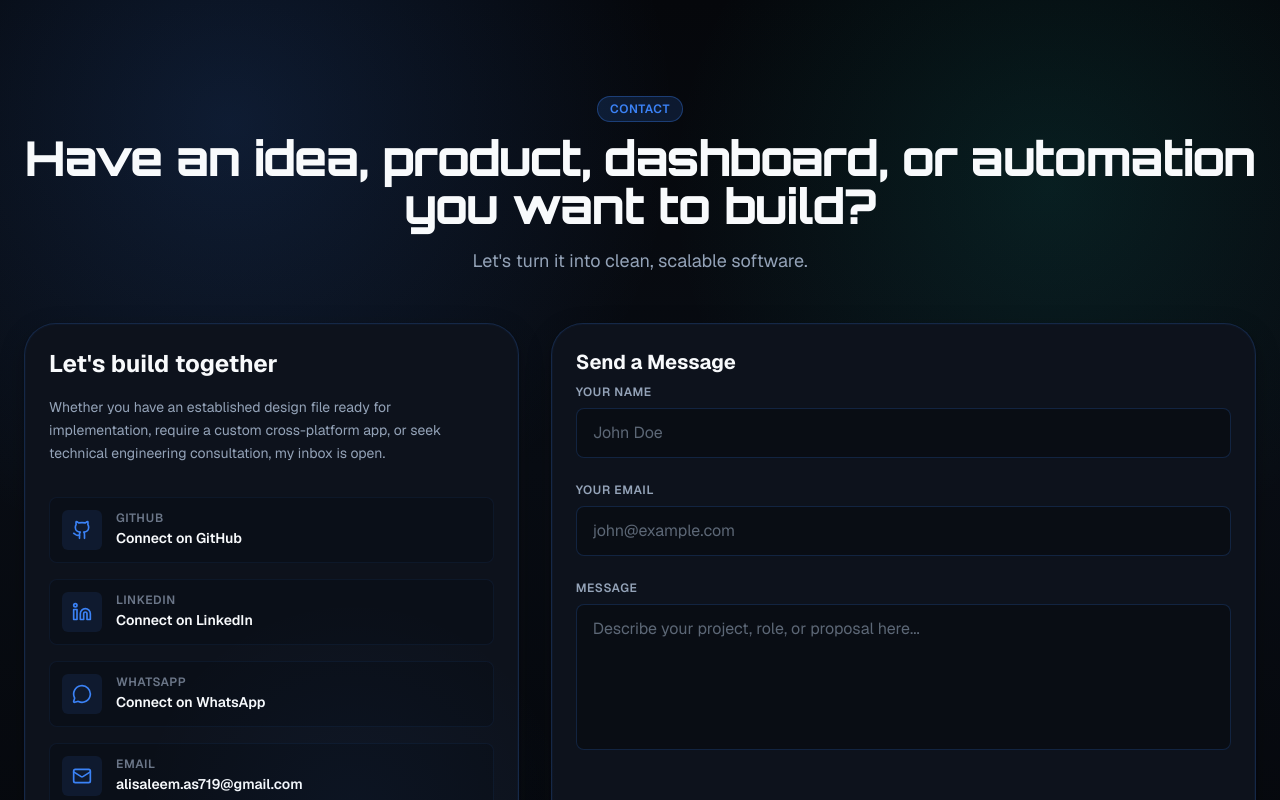
Test: Contact › shows success state, clears fields, and tracks success
The image size is (1280, 800).
Type "Jane Doe" into the field labelled "Your Name".
click(903, 433); type("Jane Doe")  # box [576,408,1231,458]
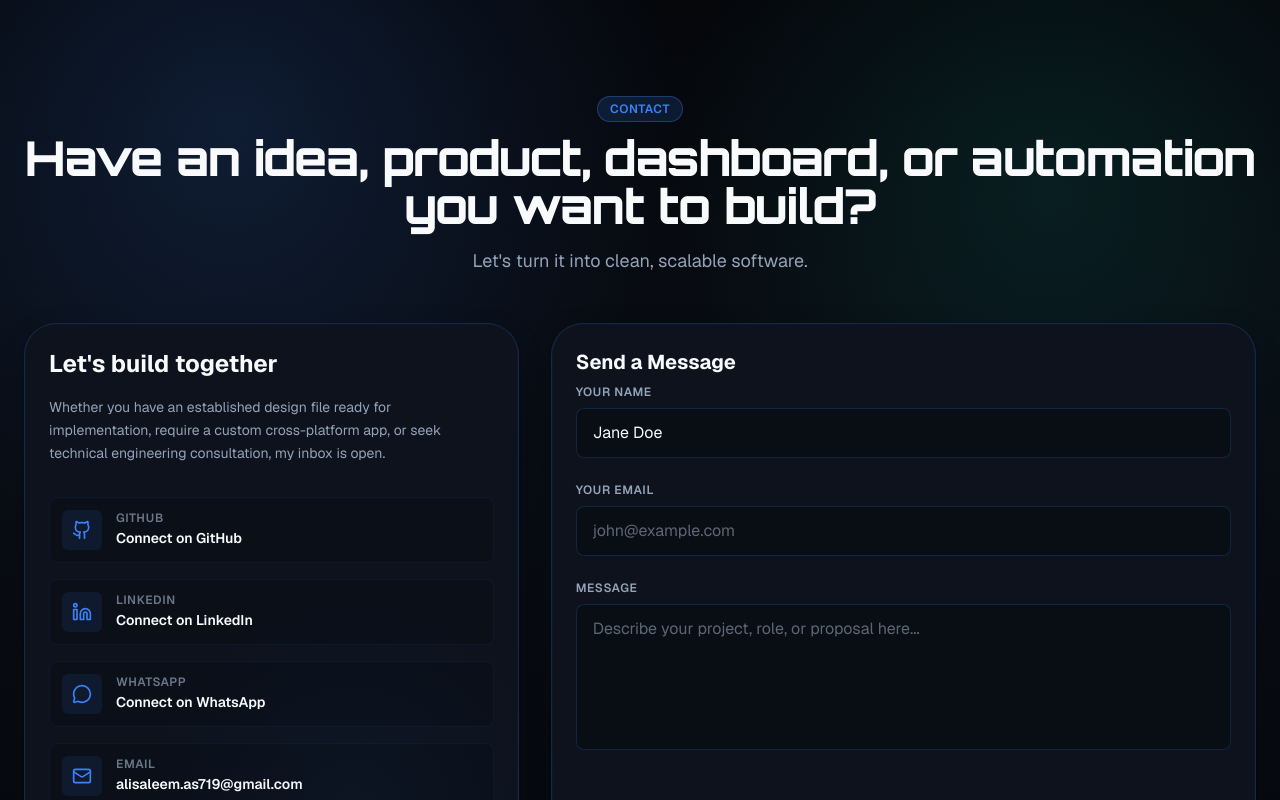
Type "jane@example.com" into the field labelled "Your Email".
click(903, 531); type("jane@example.com")  # box [576,506,1231,556]
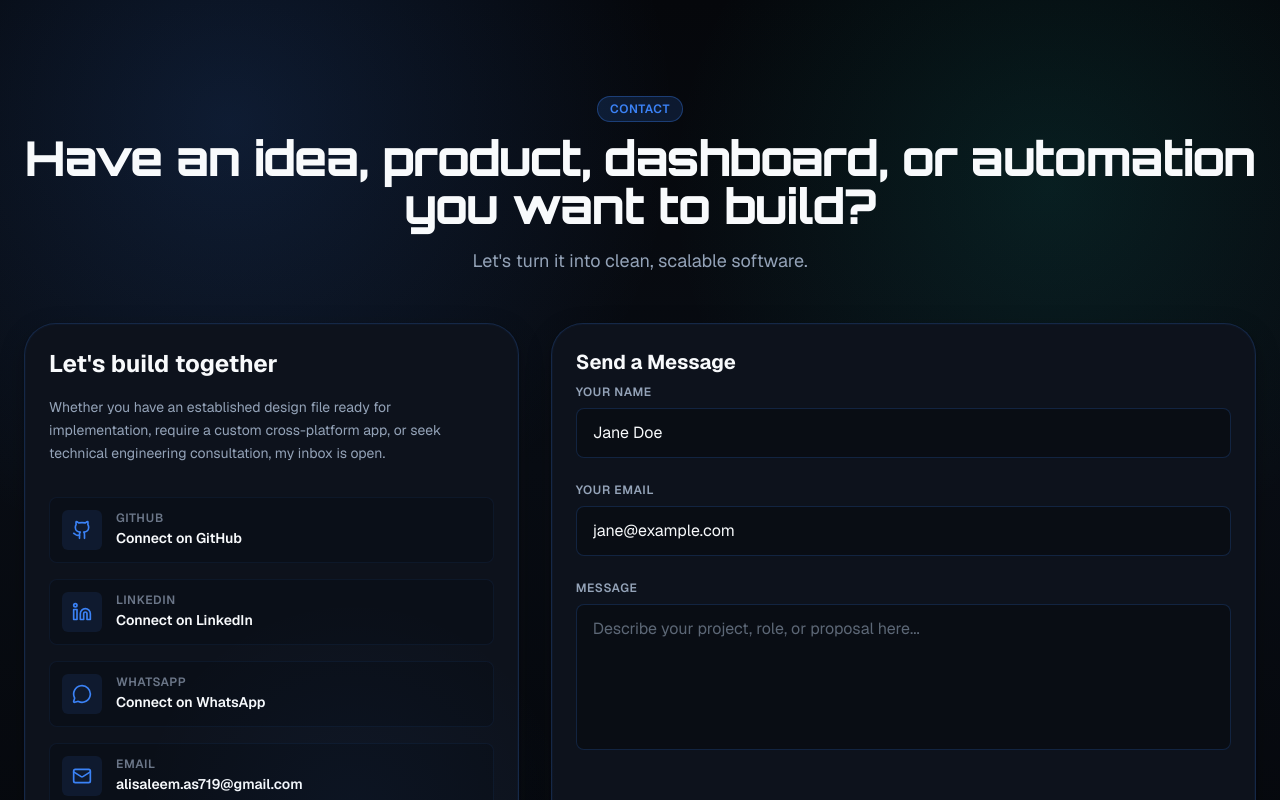
Type "Hello, let's build something." into the text box labelled "Message".
click(903, 677); type("Hello, let's build something.")  # box [576,604,1231,750]
(page scrolled)
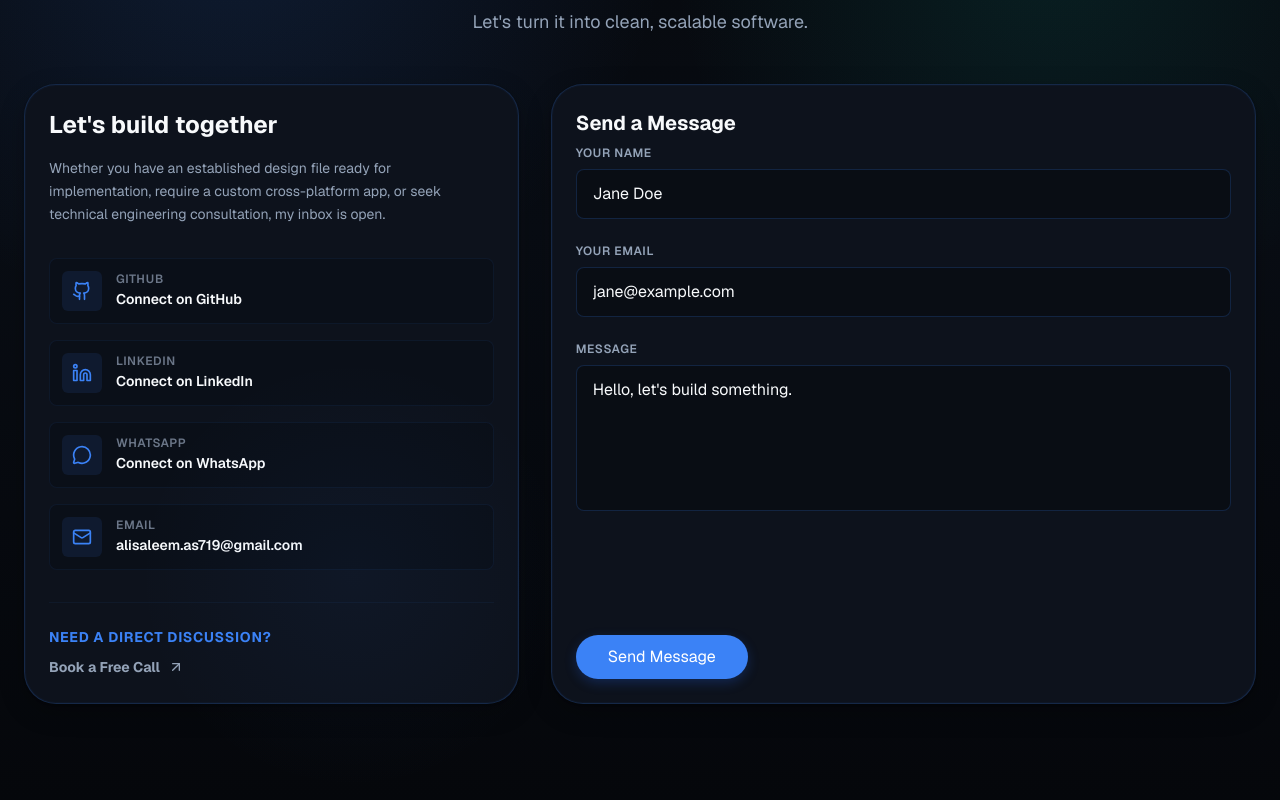
Click the button "Send Message".
click(662, 656)  # box [576,634,748,678]
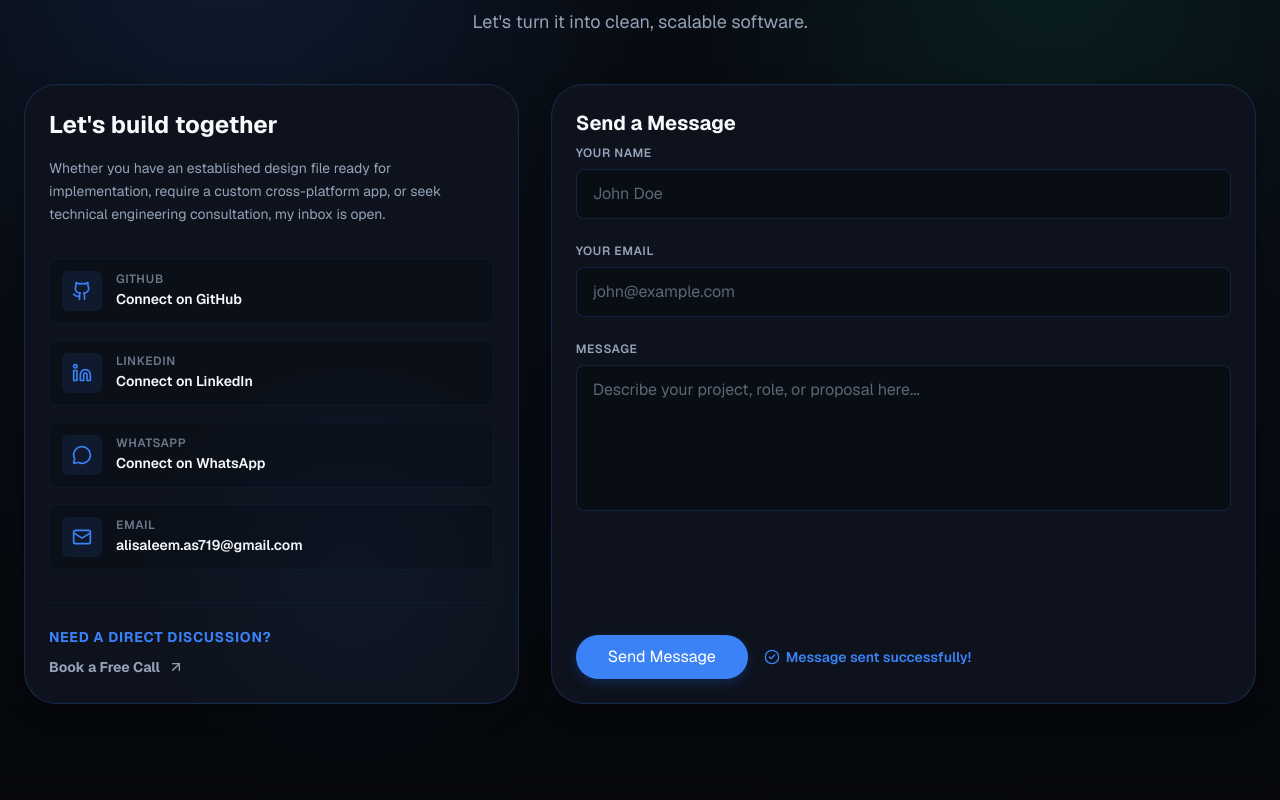
Result: the text "Message sent successfully!" is shown at [764,646,971,666]
Result: the field labelled "Your Name" is empty at [576,169,1231,219]
